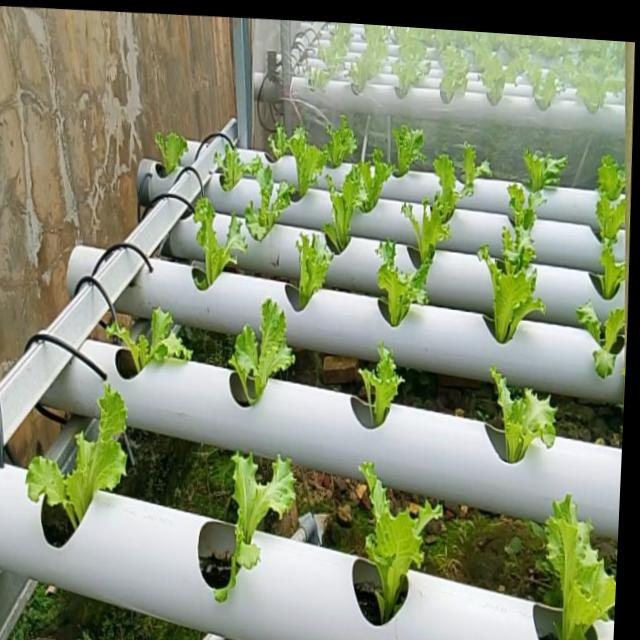Baby: (22, 377, 123, 521), (358, 457, 441, 618), (211, 446, 293, 595), (542, 492, 616, 640), (226, 292, 292, 398), (399, 173, 470, 265), (489, 363, 553, 459), (99, 297, 188, 362), (319, 158, 377, 251), (190, 190, 244, 284), (378, 115, 436, 201), (484, 257, 538, 341), (266, 120, 324, 194), (242, 154, 293, 238), (573, 299, 622, 377), (493, 201, 534, 290), (357, 338, 401, 420), (375, 238, 414, 323), (292, 228, 331, 306), (211, 133, 258, 187), (593, 162, 622, 244), (452, 141, 490, 196), (521, 148, 564, 191), (322, 112, 355, 165), (152, 124, 186, 165)
